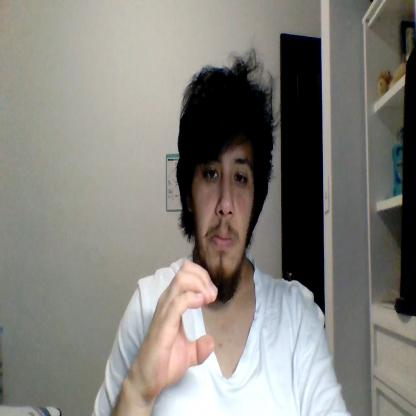C: (146, 260, 218, 390)
